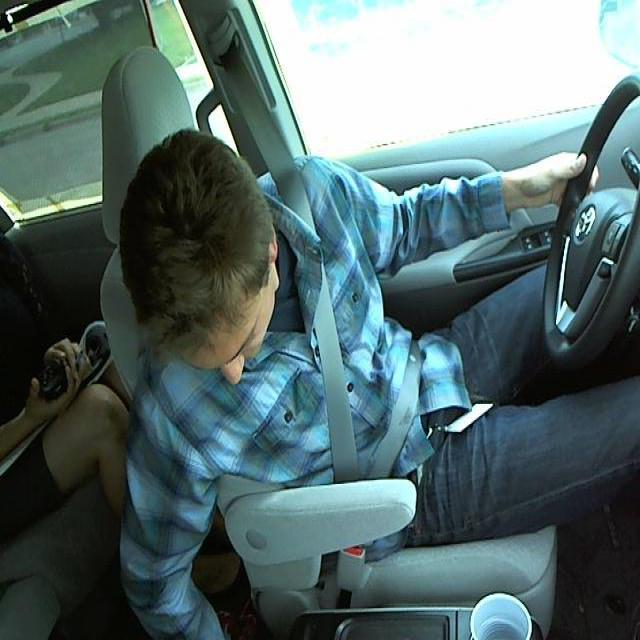seatbelt: (258, 169, 436, 487)
